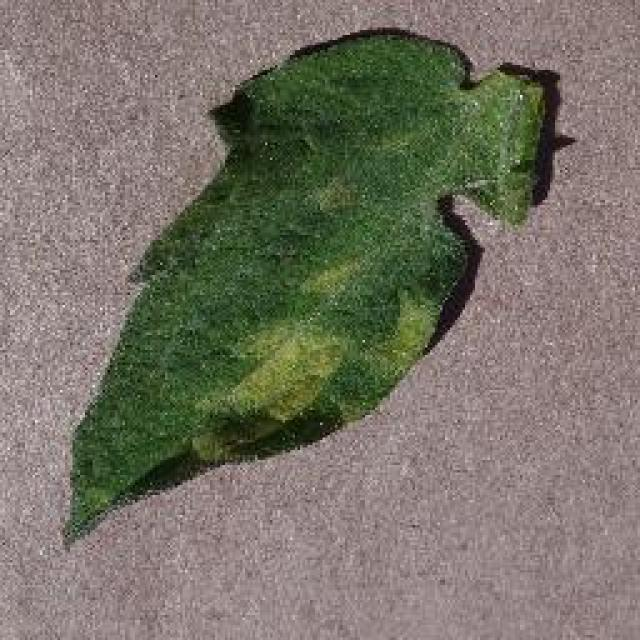Tomato___Leaf_Mold: (68, 35, 542, 535)
